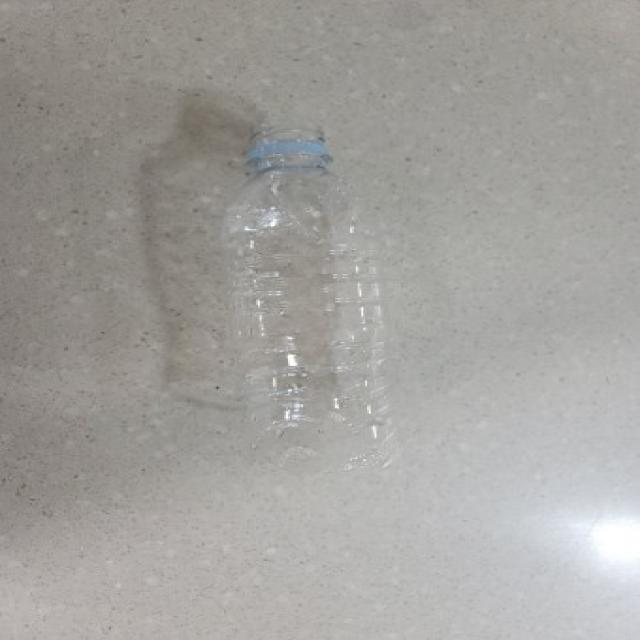plastic bottle: (210, 120, 378, 437)
